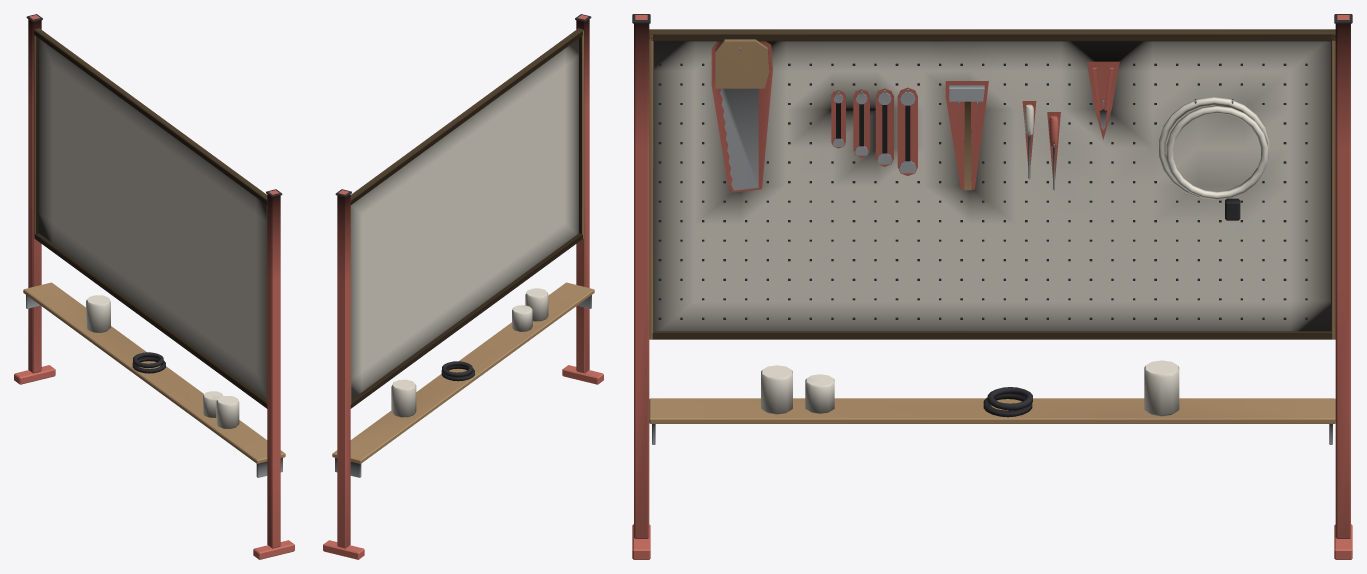
Rendered from rack.glb.
The picture shows the model from 3 angles, left to right: view 1: azimuth 30°, elevation 25°; view 2: azimuth 150°, elevation 25°; view 3: azimuth 270°, elevation 25°; orthographic projection. The views are drawn at different scales.
Parts seen in each view (by area): view 1: PART; view 2: PART; view 3: PART.
Part boxes in pixels (x1=…): PART: x1=14, y1=14, x2=294, y2=559; PART: x1=323, y1=14, x2=603, y2=559; PART: x1=632, y1=14, x2=1352, y2=559.
Bounding box in the file's own units: 0.2 × 1.9 × 2.34.
